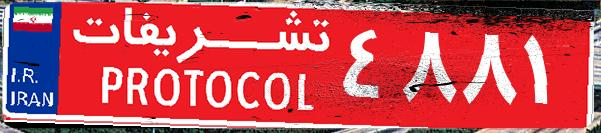1: (520, 20, 580, 115)
4: (340, 20, 400, 115)
8: (400, 20, 460, 115), (460, 20, 520, 115)
تشریفات: (60, 8, 340, 125)
